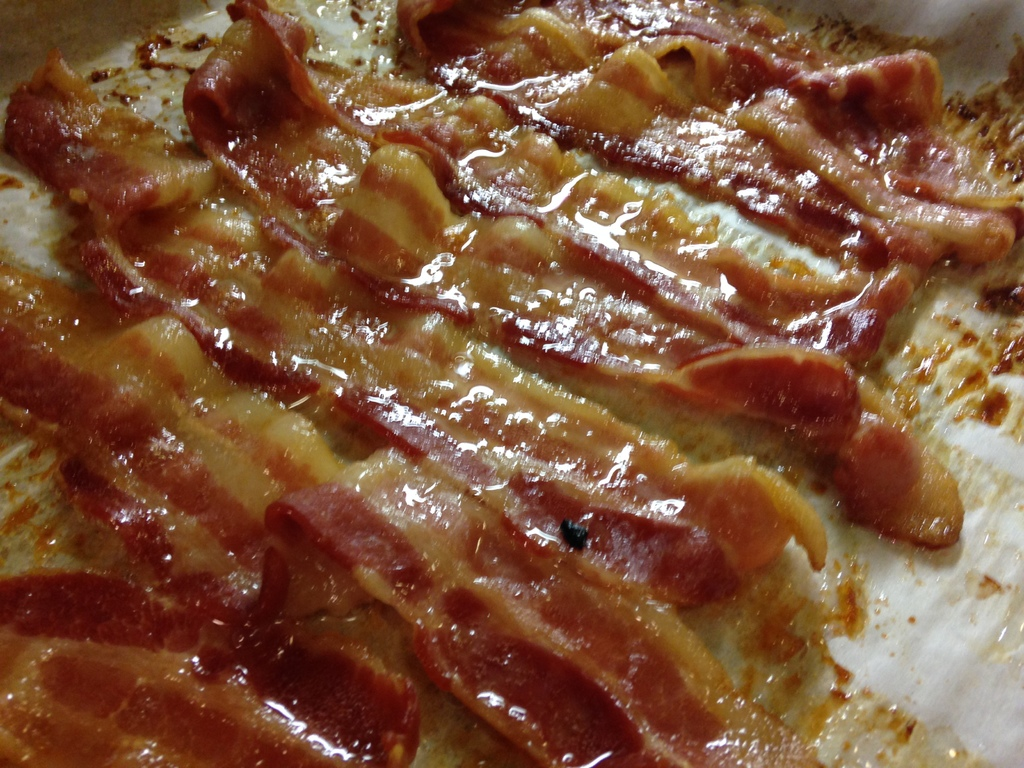Pizza: (41, 0, 1024, 745)
